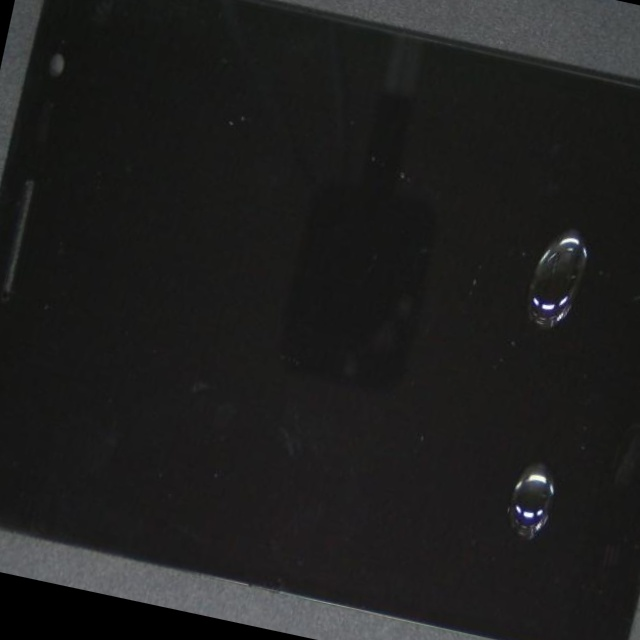oil: (202, 122, 640, 640), (273, 90, 640, 404)
